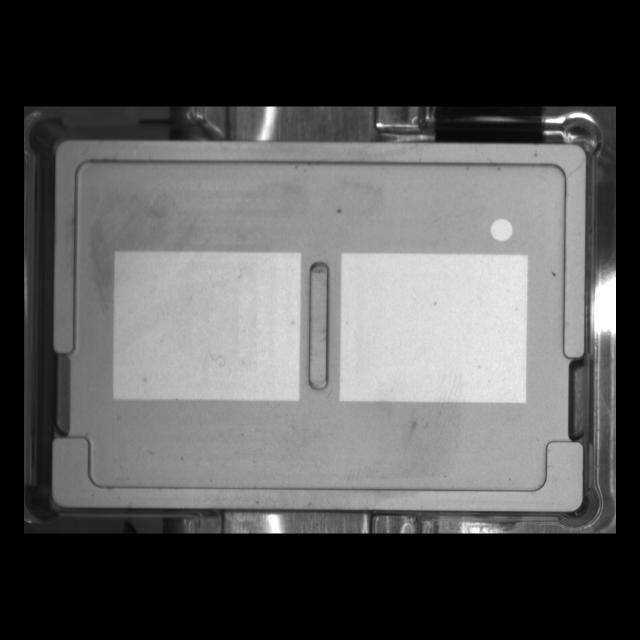door: (40, 422, 593, 521)
point: (484, 212, 518, 246)
